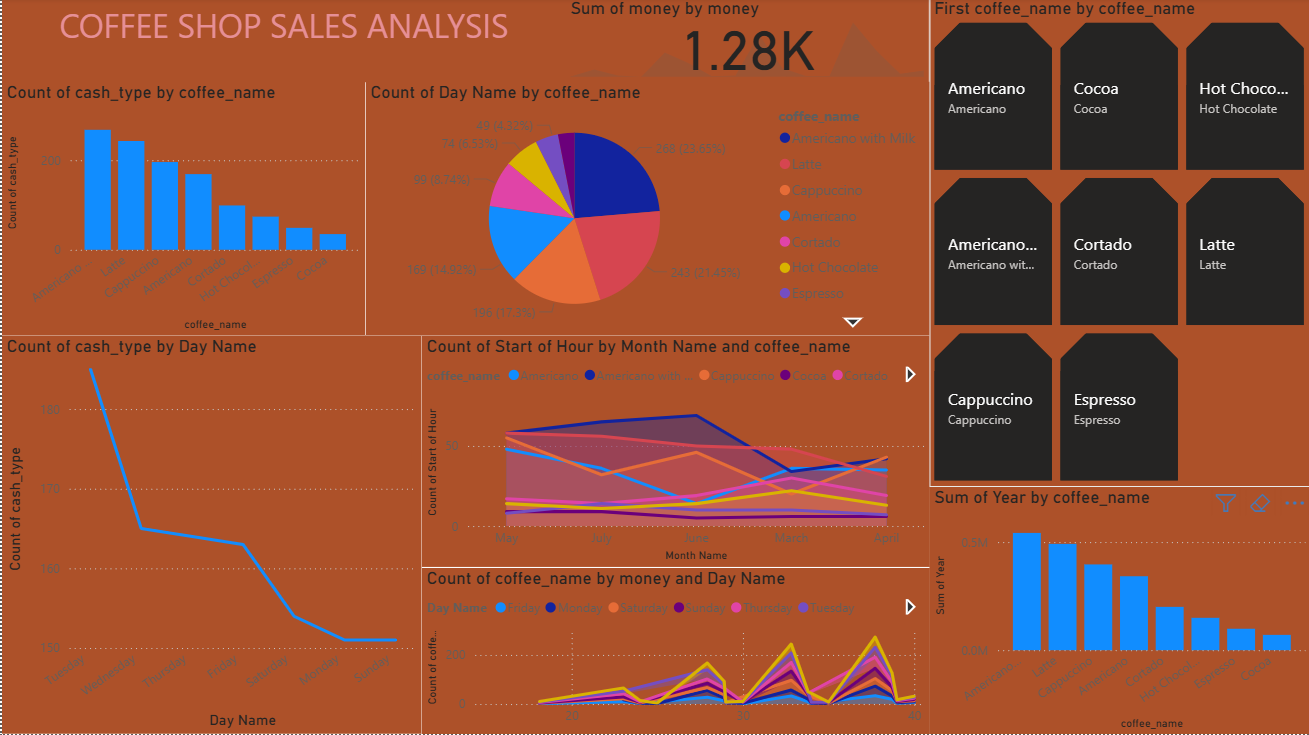

Layout of this report page (visuals, bound fields, positions):
{"tool":"powerbi","page":{"name":"Page 1","canvas":[1280,720],"ordinal":0},"visuals":[{"type":"columnChart","fields":{"Category":["coffee shop.coffee_name"],"Y":["CountNonNull(coffee shop.cash_type)"]},"box":[0,82.3,355.4,248.4],"z":0},{"type":"pieChart","fields":{"Category":["coffee shop.coffee_name"],"Y":["CountNonNull(coffee shop.Day Name)"]},"box":[355.4,82.3,551.6,248.4],"z":1},{"type":"stackedAreaChart","fields":{"Category":["coffee shop.money"],"Series":["coffee shop.Day Name"],"Y":["CountNonNull(coffee shop.coffee_name)"]},"box":[410.3,557.1,496.7,163.3],"z":2},{"type":"lineClusteredColumnComboChart","fields":{"Category":["coffee shop.coffee_name"],"Y":["Sum(coffee shop.Year)"]},"box":[907,477.5,373.2,242.9],"z":3},{"type":"areaChart","fields":{"Y":["CountNonNull(coffee shop.Start of Hour)"],"Series":["coffee shop.coffee_name"],"Category":["coffee shop.Month Name"]},"box":[410.3,330.7,496.7,226.4],"z":4},{"type":"lineChart","fields":{"Category":["coffee shop.Day Name"],"Y":["CountNonNull(coffee shop.cash_type)"]},"box":[0,330.7,410.3,389.7],"z":5},{"type":"textbox","box":[0,0,551.6,82.3],"z":6},{"type":"kpi","fields":{"Indicator":["Sum(coffee shop.money)"],"TrendLine":["coffee shop.money"]},"box":[551.6,0,355.4,82.3],"z":7},{"type":"advancedSlicerVisual","fields":{"Values":["coffee shop.coffee_name"],"Label":["Min(coffee shop.coffee_name)"]},"box":[907,0,373.2,477.5],"z":8}]}

Visuals, with their boxes in screenshot pixels (x1, y1, x2, y2), scaled from the page's 1280x720 canvas onto the 1309x735 screenshot:
columnChart - coffee shop.coffee_name x CountNonNull(coffee shop.cash_type): crop(0, 84, 363, 338)
pieChart - coffee shop.coffee_name x CountNonNull(coffee shop.Day Name): crop(363, 84, 928, 338)
stackedAreaChart - coffee shop.money x coffee shop.Day Name: crop(420, 569, 928, 734)
lineClusteredColumnComboChart - coffee shop.coffee_name x Sum(coffee shop.Year): crop(928, 487, 1308, 734)
areaChart - CountNonNull(coffee shop.Start of Hour) x coffee shop.coffee_name: crop(420, 338, 928, 569)
lineChart - coffee shop.Day Name x CountNonNull(coffee shop.cash_type): crop(0, 338, 420, 734)
textbox: crop(0, 0, 564, 84)
kpi - Sum(coffee shop.money) x coffee shop.money: crop(564, 0, 928, 84)
advancedSlicerVisual - coffee shop.coffee_name x Min(coffee shop.coffee_name): crop(928, 0, 1308, 487)
